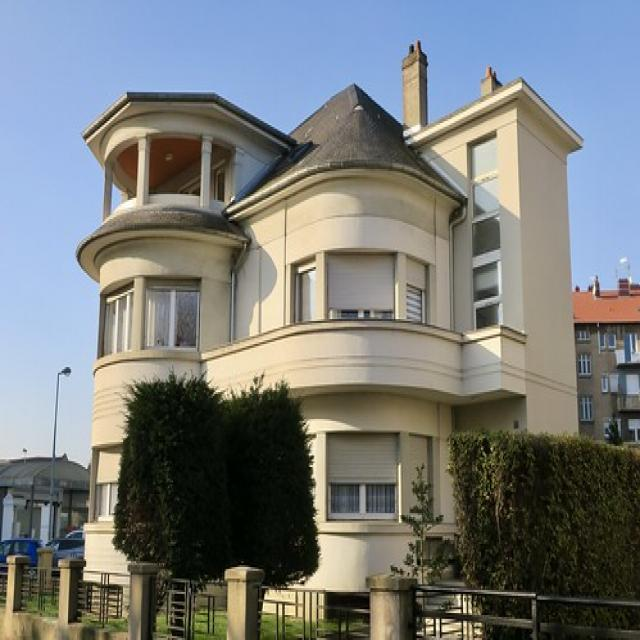Normal_building: (71, 36, 587, 604)
